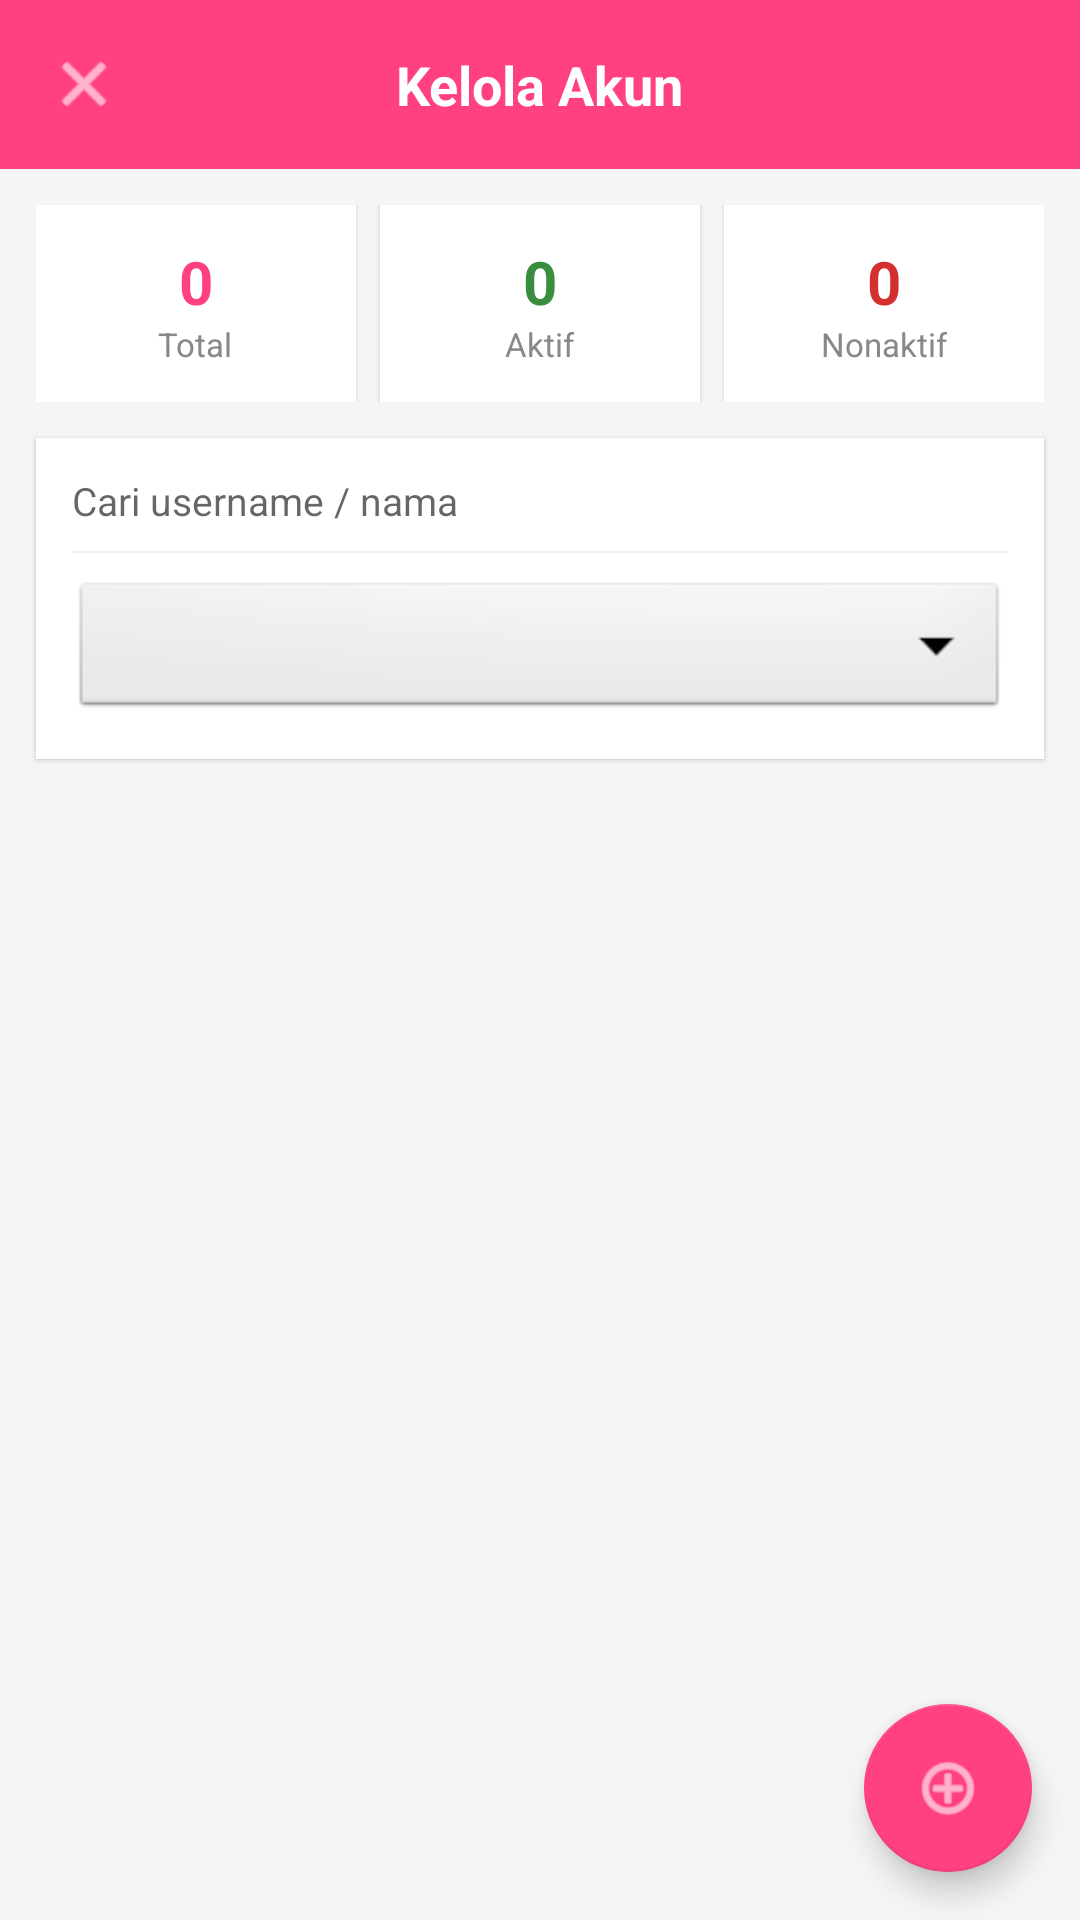

Point at icon controls on the screen. Image size 1080w x 1920h, points as (x,y).
add: (948,1788)
close clear cancel: (84,84)
